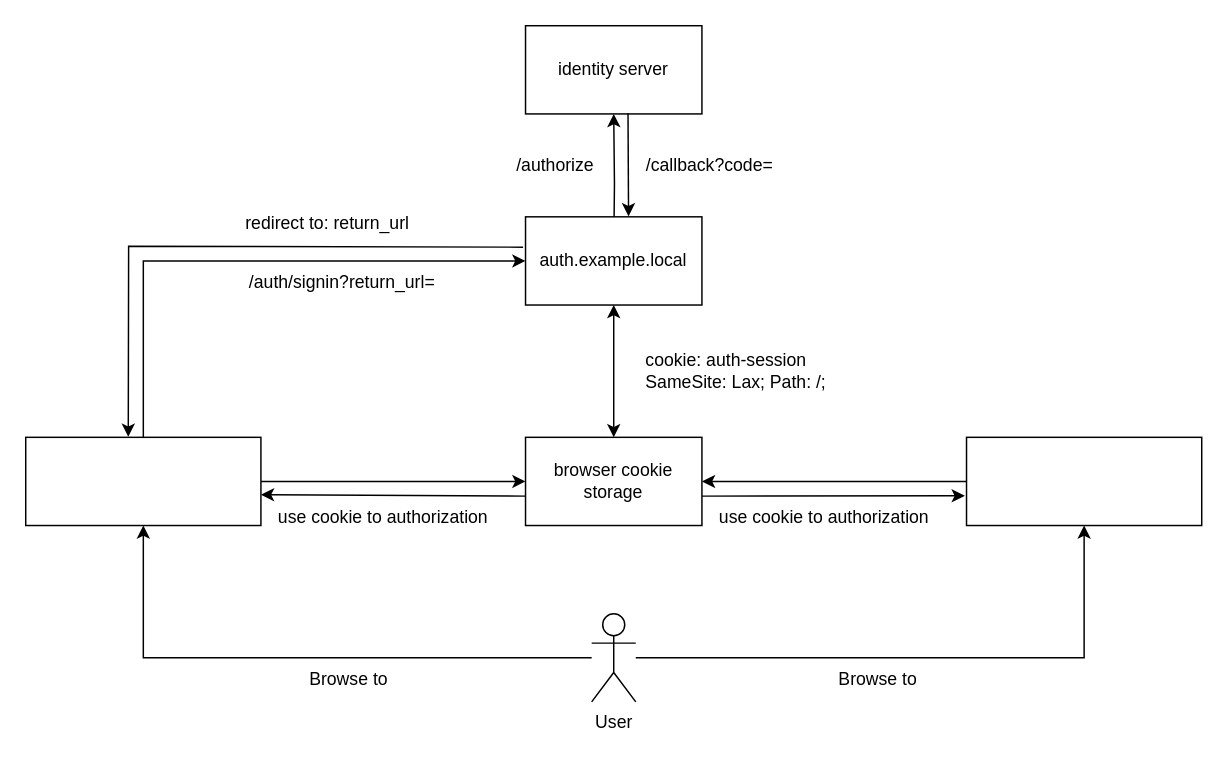
This 1227x759 diagram has some shape labels left out. Here are the shapes that lost their labels. From the top down, the centre of each, then its label:
At (142,481): "app.example.local/app1".
At (1083,481): "app.example.local/app2".
